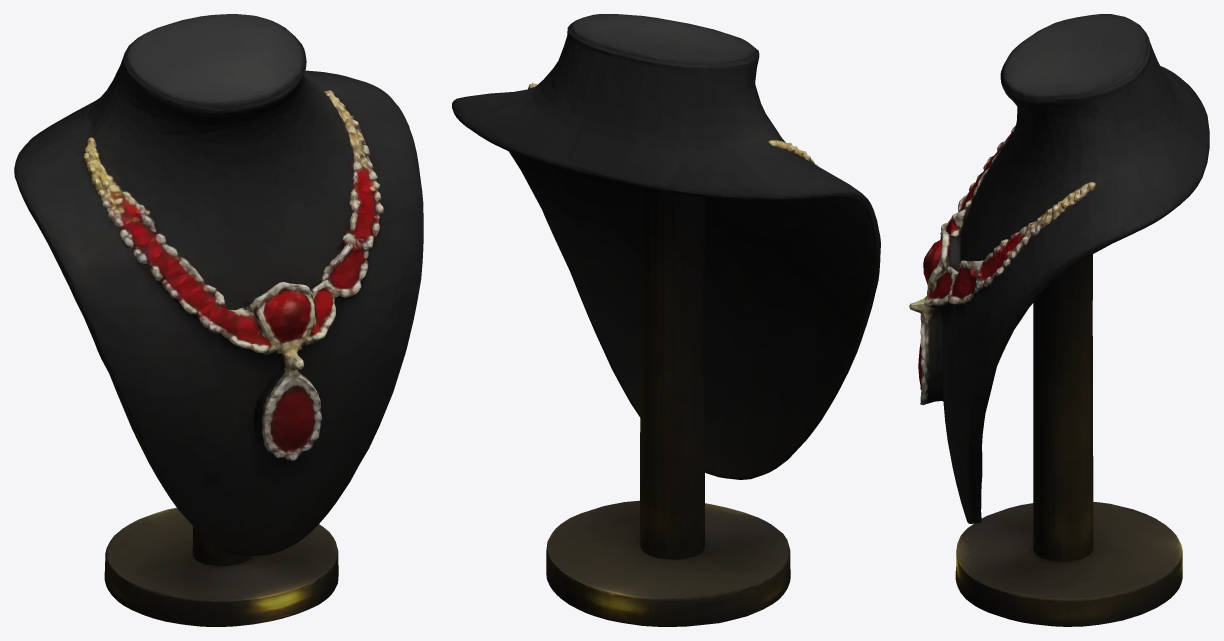
Rendered from bust_necklace_black_red.glb.
3 views of the same model, side by side, from view 1: azimuth 30°, elevation 25°; view 2: azimuth 150°, elevation 25°; view 3: azimuth 270°, elevation 25° (orthographic). The views are drawn at different scales.
Parts seen in each view (by area): view 1: geometry_0; view 2: geometry_0; view 3: geometry_0.
Part boxes in pixels (x1,y1,x2,y2): geometry_0: (14, 14, 423, 626); geometry_0: (452, 14, 880, 626); geometry_0: (909, 14, 1209, 626).
Bounding box in the file's own units: 0.7397 × 0.9997 × 0.5107.
1 material, 1 textured.
